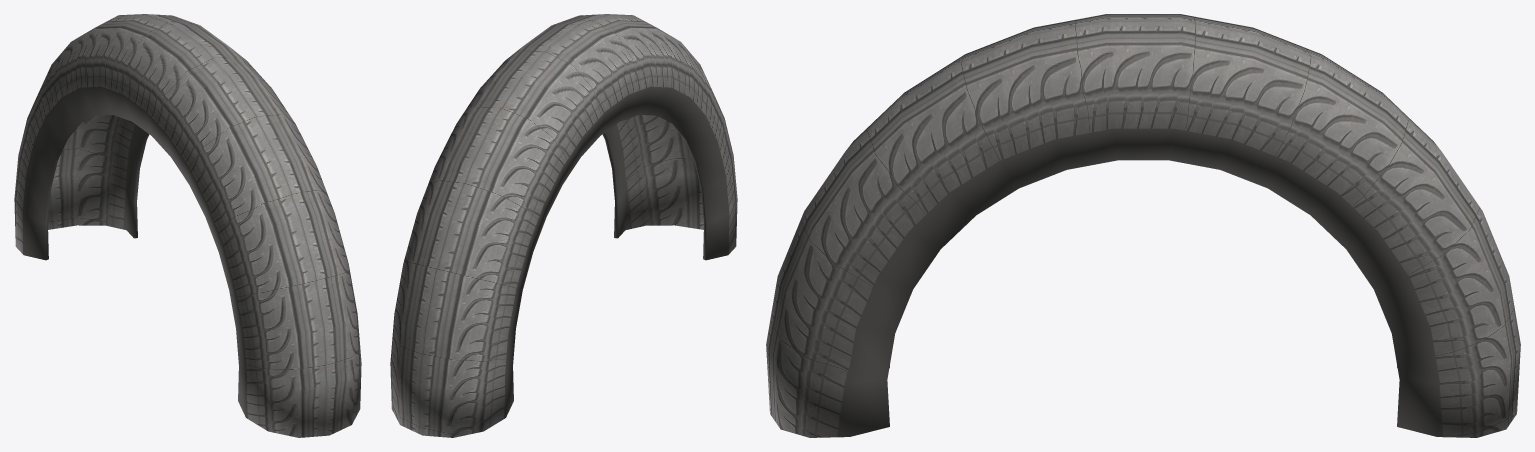
Rendered from tire.fbx.
3 views of the same model, side by side, from view 1: azimuth 30°, elevation 25°; view 2: azimuth 150°, elevation 25°; view 3: azimuth 270°, elevation 25° (orthographic). The views are drawn at different scales.
Parts seen in each view (by area): view 1: Torus.000; view 2: Torus.000; view 3: Torus.000.
Boxes of the visible parts, x1,y1,x2,y2 form: Torus.000: [14, 14, 361, 437]; Torus.000: [390, 14, 737, 437]; Torus.000: [766, 14, 1520, 437].
Size of the model in its own units: 30 by 80.24 by 140.
